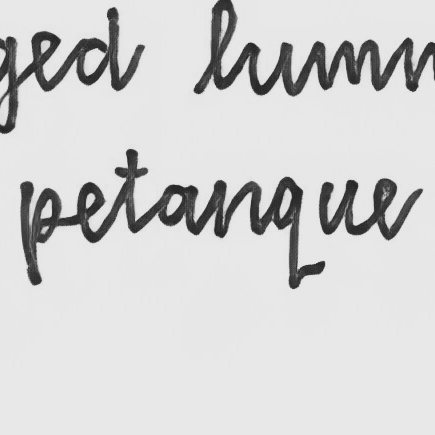a: (154, 181, 201, 235)
e: (369, 176, 416, 242), (73, 180, 108, 246)
n: (209, 178, 265, 240)
p: (17, 179, 66, 288)
q: (269, 175, 308, 291)
t: (111, 146, 149, 235)
u: (315, 175, 361, 237)
